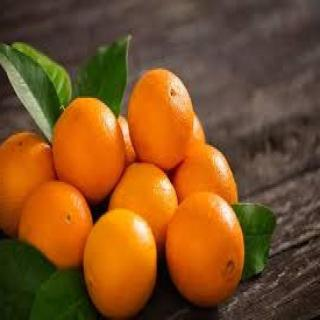orange: (164, 188, 253, 307), (52, 85, 128, 207), (86, 205, 160, 320), (128, 72, 200, 166)
